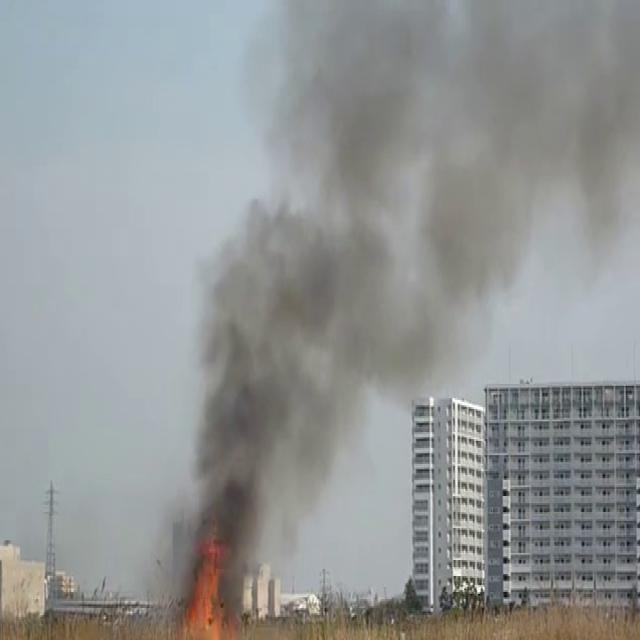Fire: (169, 543, 239, 639)
Smoke: (165, 0, 640, 601)
